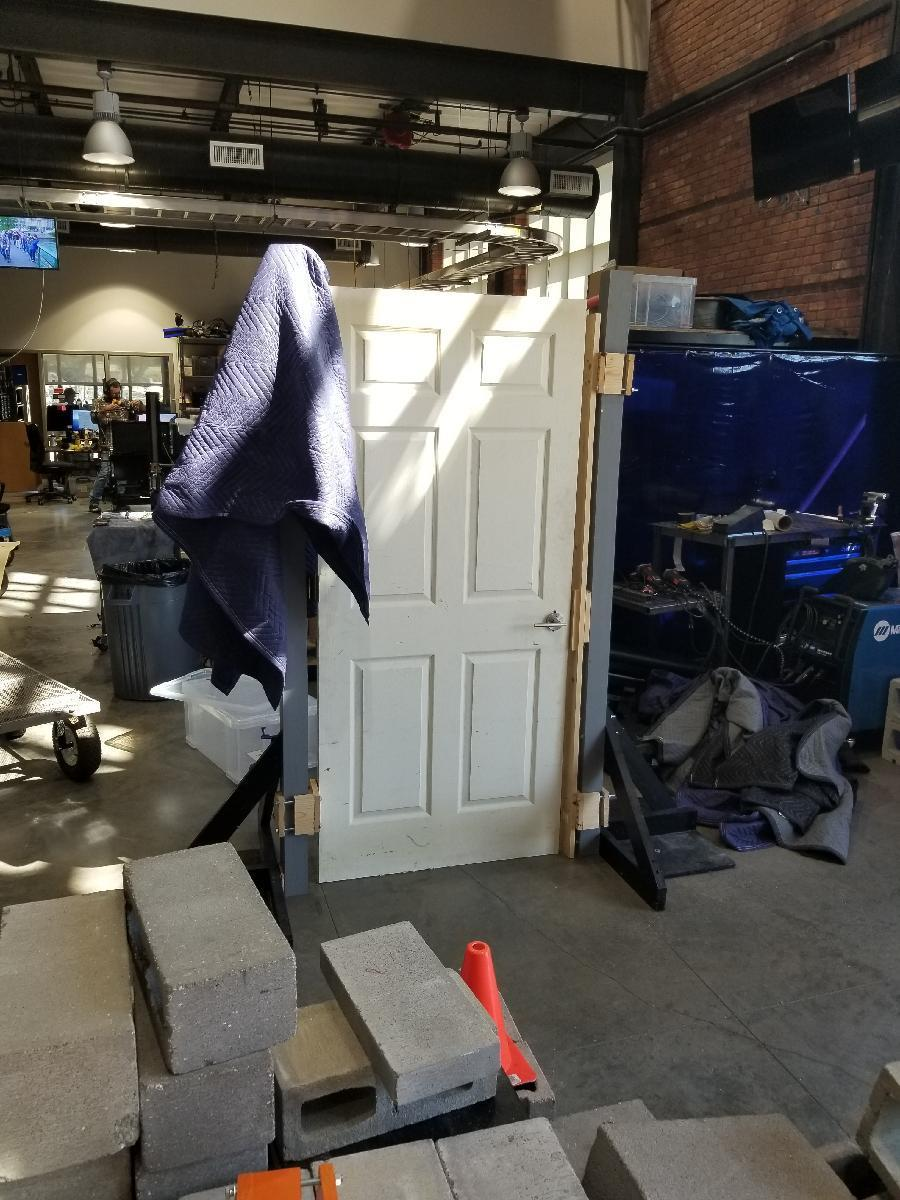door: (318, 285, 570, 875)
handle: (529, 611, 568, 632)
